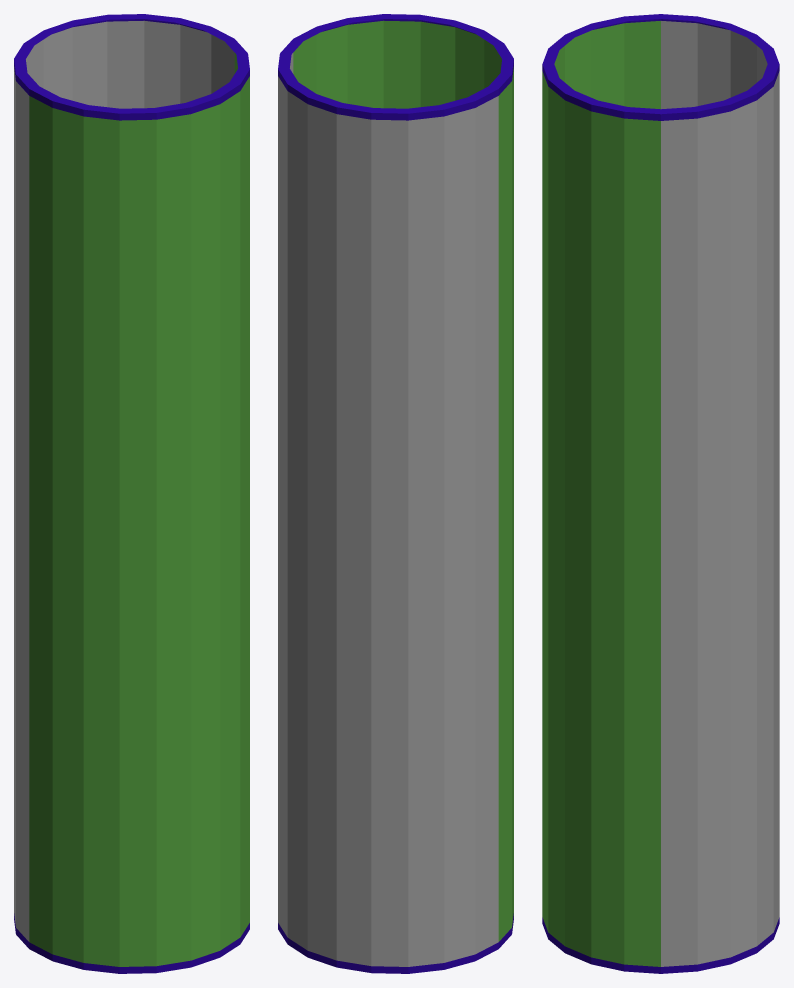
The model's file is pipe_double.fbx.
The picture shows the model from 3 angles, left to right: view 1: azimuth 30°, elevation 25°; view 2: azimuth 150°, elevation 25°; view 3: azimuth 270°, elevation 25°; orthographic projection.
Parts seen in each view (by area): view 1: pipe_mb:pPipe1; view 2: pipe_mb:pPipe1; view 3: pipe_mb:pPipe1.
Part boxes in pixels (bbox=[...]): pipe_mb:pPipe1: bbox=[14, 14, 249, 973]; pipe_mb:pPipe1: bbox=[278, 14, 513, 973]; pipe_mb:pPipe1: bbox=[542, 14, 779, 973].
Bounding box in the file's own units: 100 × 400 × 100.
